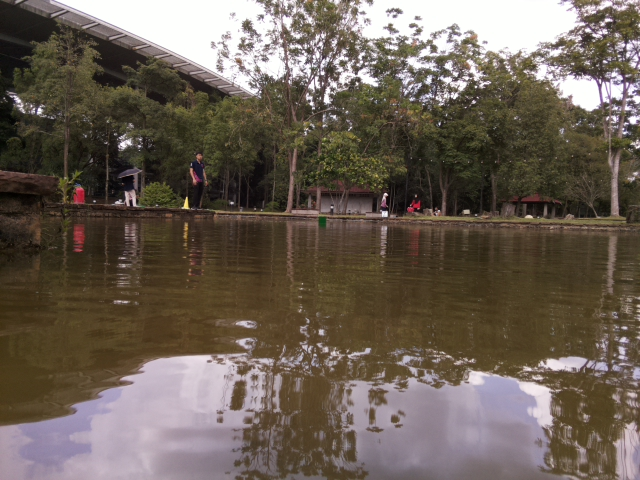checkpoint: (180, 195, 192, 209)
obstacle: (317, 215, 327, 223)
